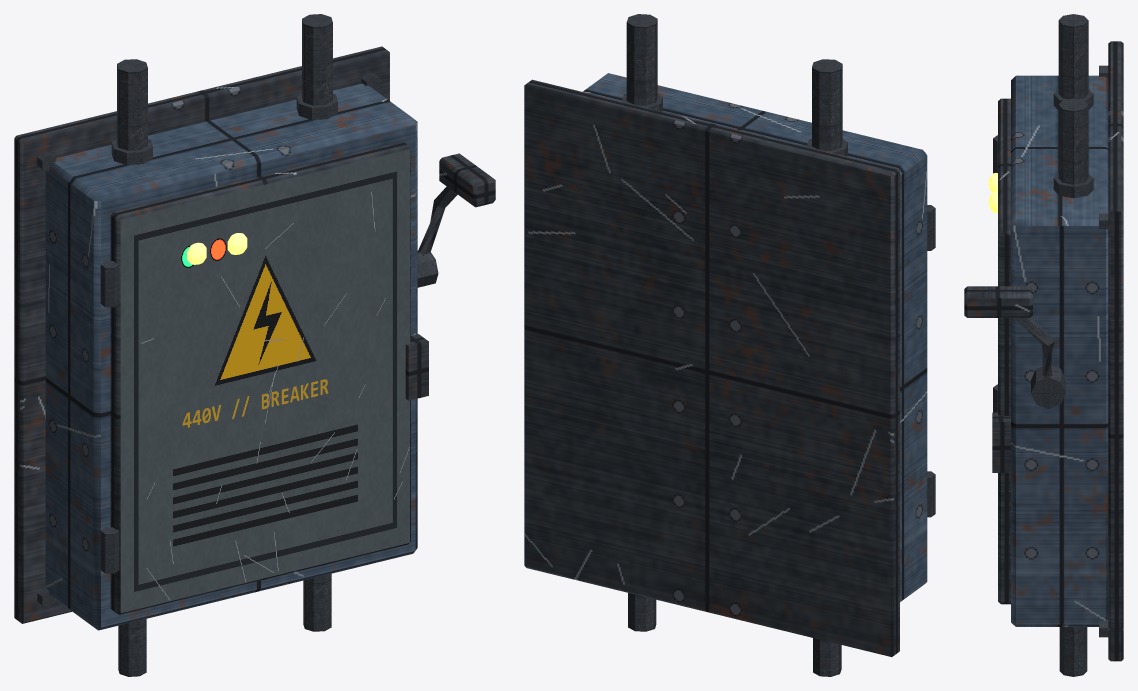
The model's file is wall_breaker_box_440v.glb.
3 views of the same model, side by side, from view 1: azimuth 30°, elevation 25°; view 2: azimuth 150°, elevation 25°; view 3: azimuth 270°, elevation 25° (orthographic). The views are drawn at different scales.
Parts seen in each view (by area): view 1: caja_fusibles; view 2: caja_fusibles; view 3: caja_fusibles.
Part boxes in pixels (x1,y1,x2,y2): caja_fusibles: (14,14,495,676); caja_fusibles: (524,14,935,676); caja_fusibles: (964,14,1123,676).
Size of the model in its own units: 0.69 by 1 by 0.2555.
4 materials, 3 textured.
